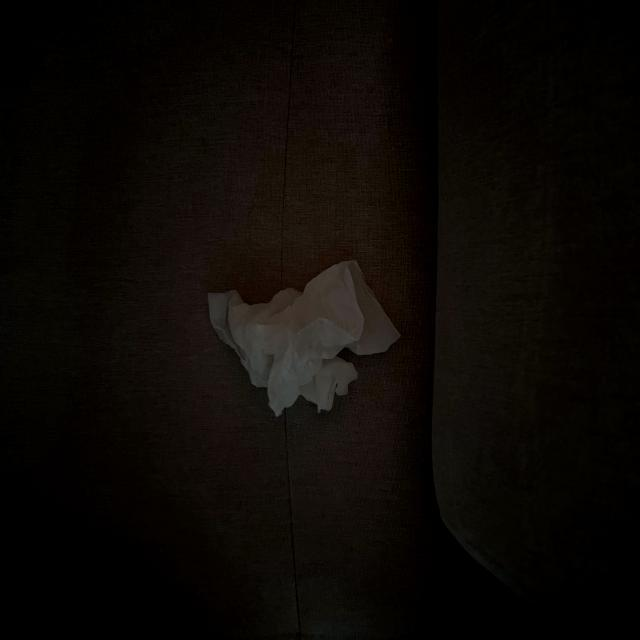Paper: (197, 256, 403, 412)
